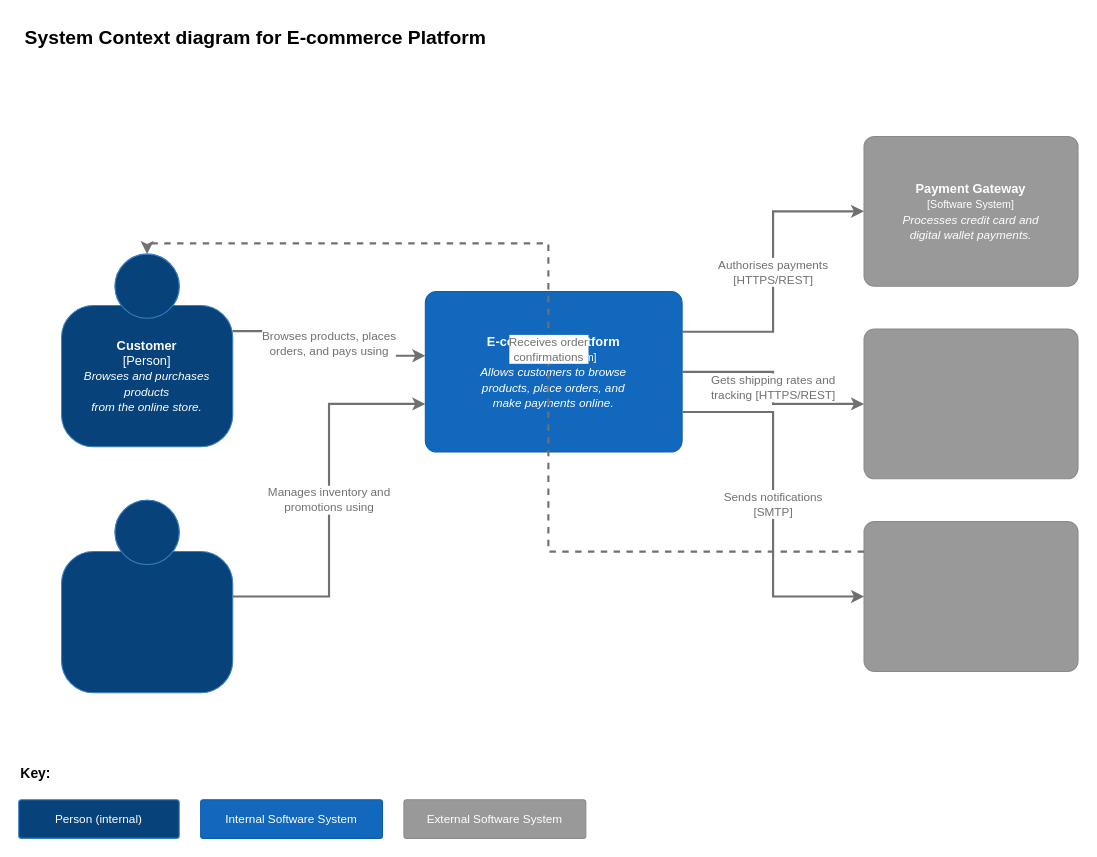
Image size: 1097x857. Some labels were removed from this diagram. Each missing label, with the centre of its shape:
E-mail Service [Software System] Sends order confirmations and marketing emails.: pixel 970 596
Shipping API [Software System] Calculates shipping costs and tracks deliveries.: pixel 970 403
Store Admin [Person] Manages products, orders, and promotions.: pixel 146 596
